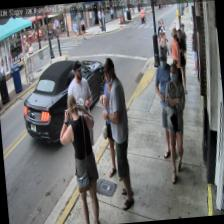person: (56, 92, 103, 224), (99, 55, 136, 211), (64, 58, 100, 192), (161, 57, 192, 182), (96, 65, 124, 181), (152, 48, 178, 159)
